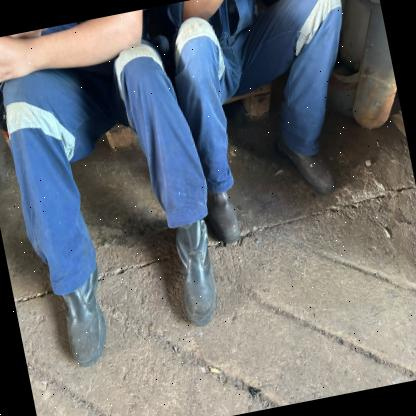bota: (144, 214, 244, 334), (260, 116, 350, 218), (42, 258, 122, 370), (204, 184, 253, 247)
